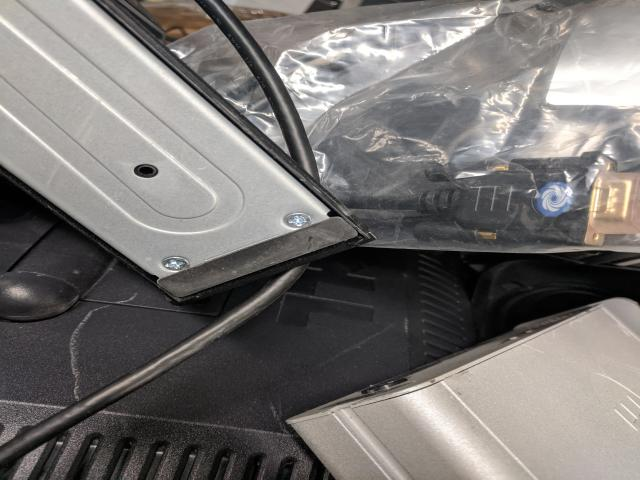CRS: (284, 212, 314, 229), (162, 257, 191, 272)
